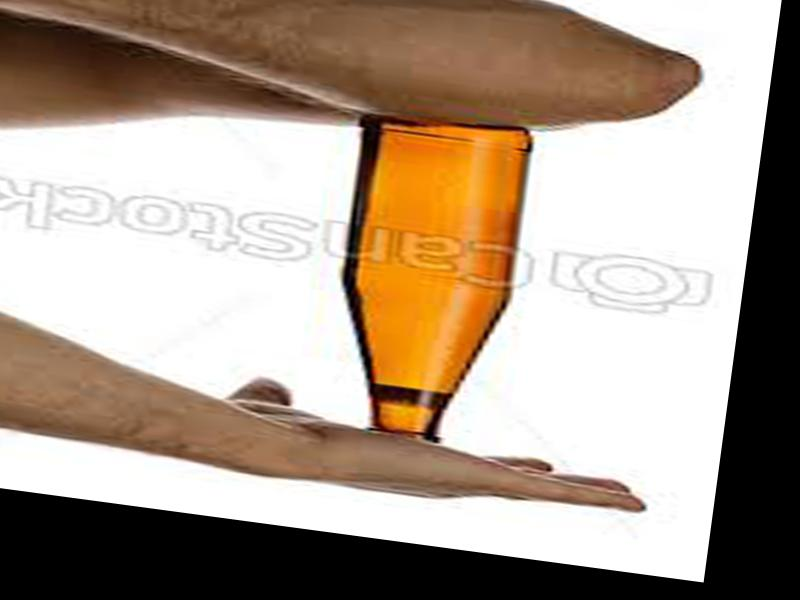Beer: (313, 110, 537, 454)
